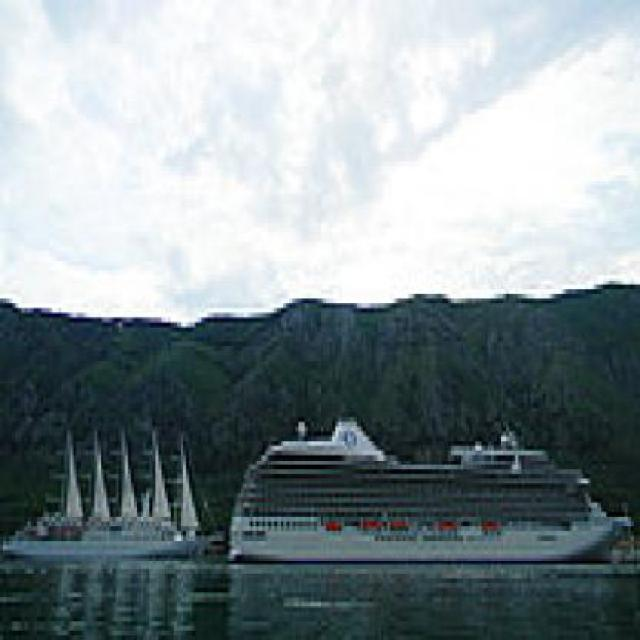cruise: (224, 395, 630, 570)
